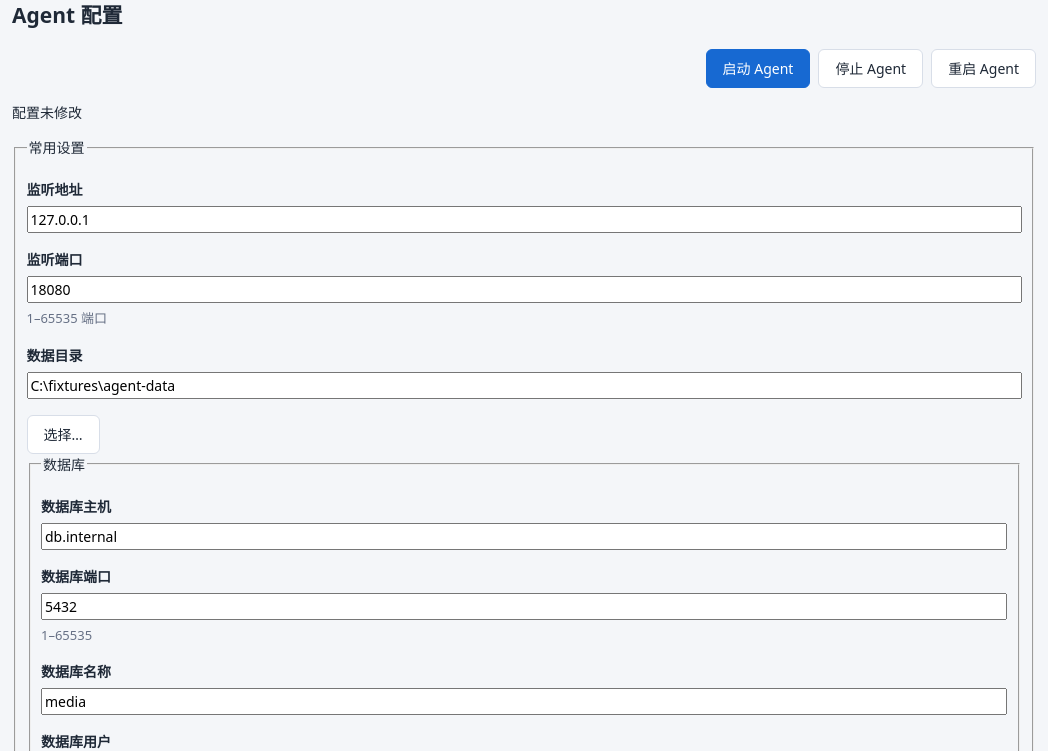
Test: AgentPage › 成功保存会 commit、清理密码编辑态并仅显示后端返回的 SHA-256 短摘要
Replace the text in the field labelled "监听地址" with "127.0.0.3" at (524, 220), box x1=26 y1=206 x2=1022 y2=233
(page scrolled)
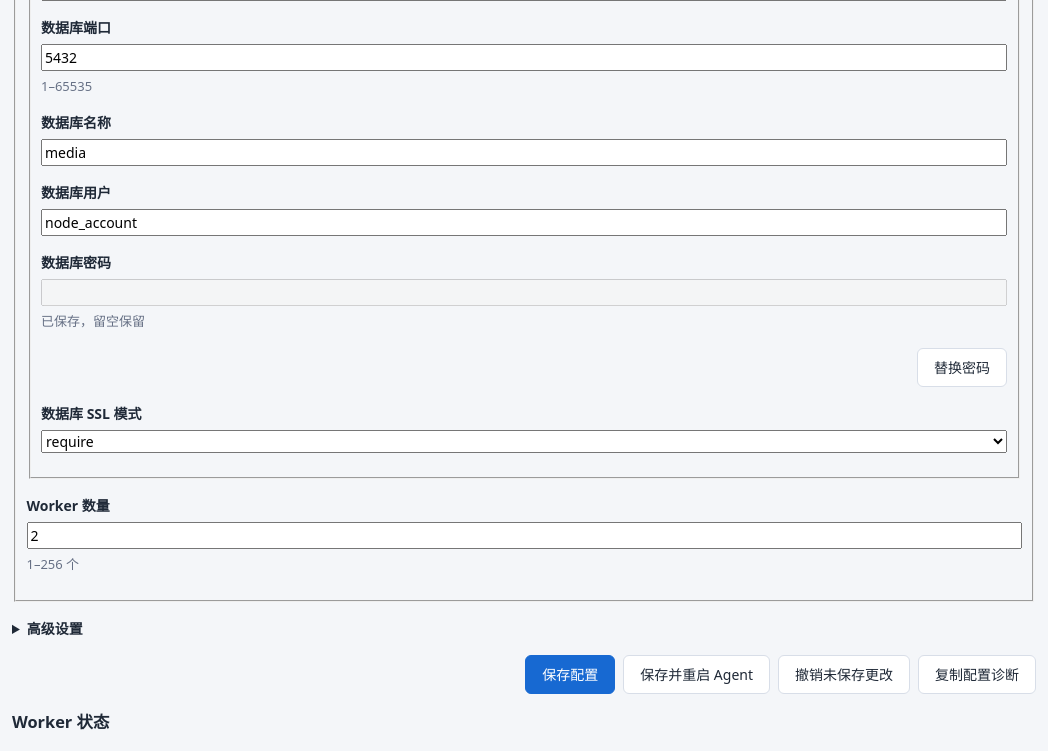
Click the button "替换密码" at (962, 367), box x1=917 y1=348 x2=1007 y2=387
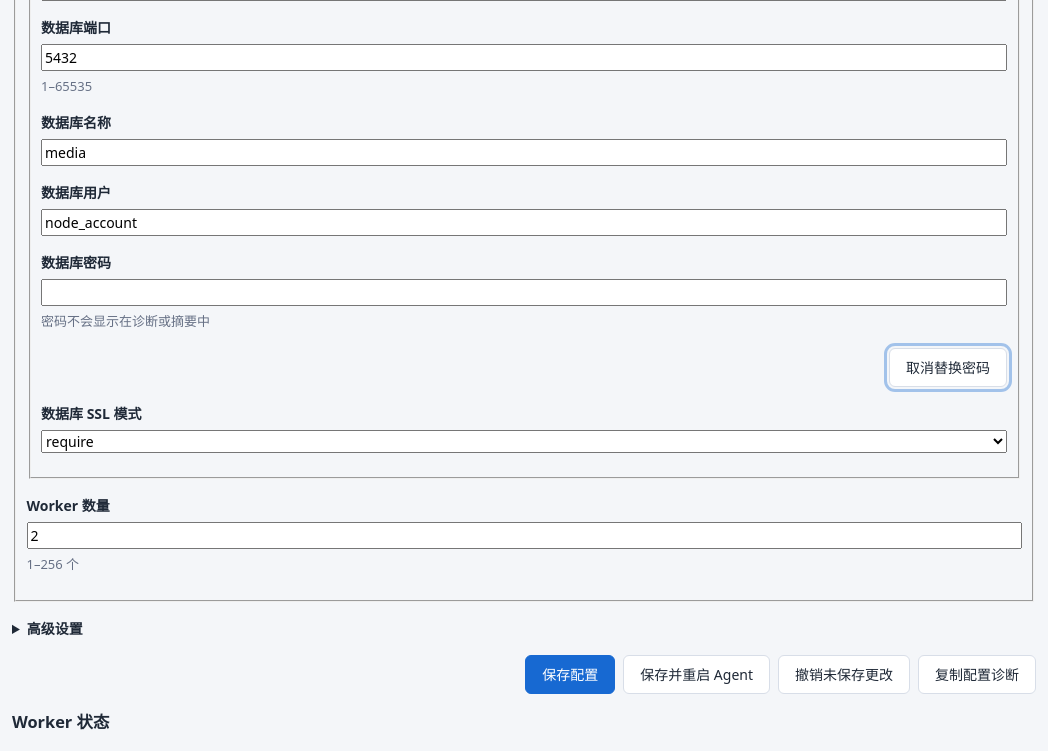
Type "temporary-value" into the password field labelled "数据库密码" at (524, 293), box x1=41 y1=279 x2=1007 y2=306
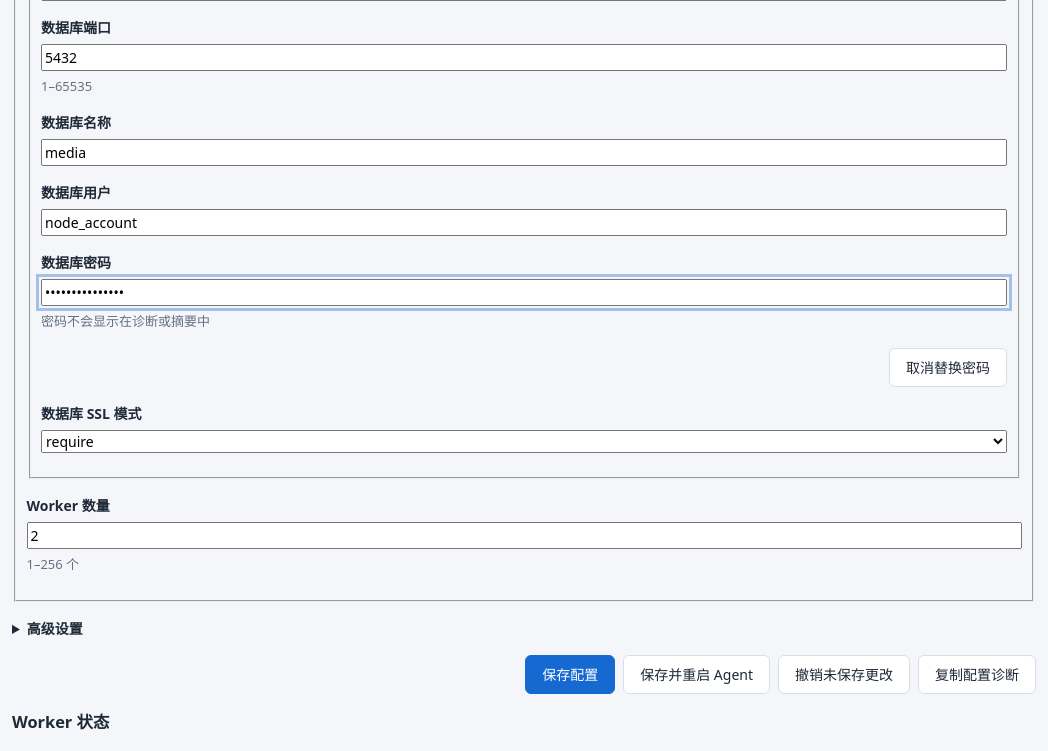
Click the button "保存配置" at (570, 674), box x1=525 y1=655 x2=615 y2=694
(page scrolled)
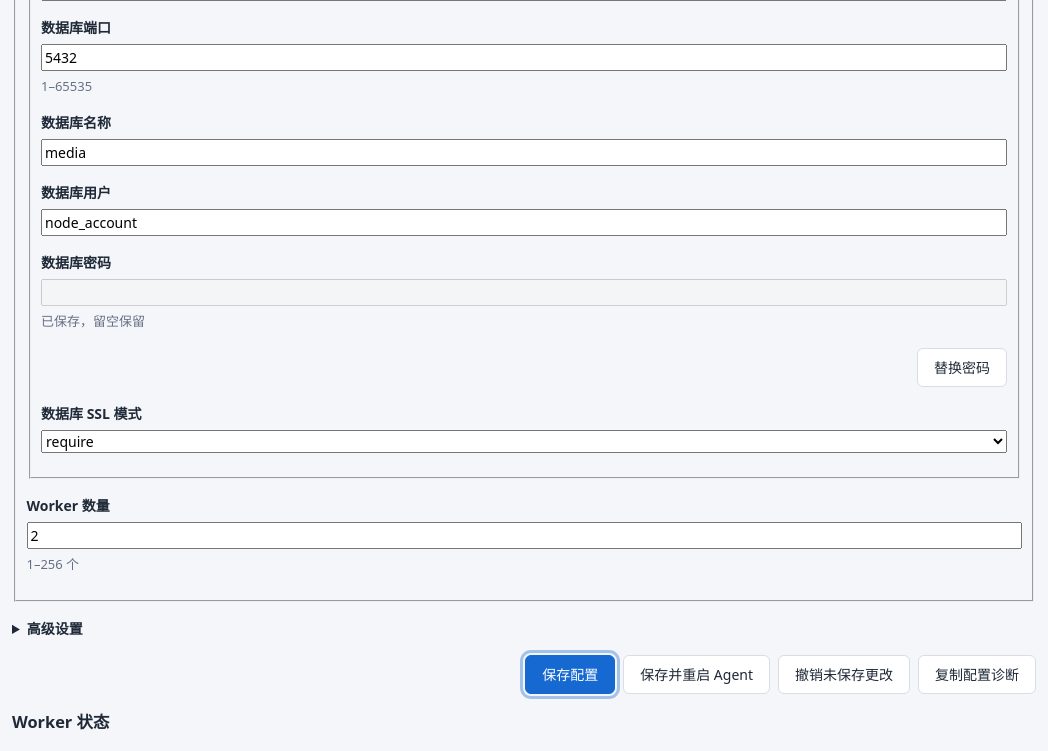
Check: the password field labelled "数据库密码" is disabled, box x1=41 y1=279 x2=1007 y2=306
Check: the password field labelled "数据库密码" is empty, box x1=41 y1=279 x2=1007 y2=306
